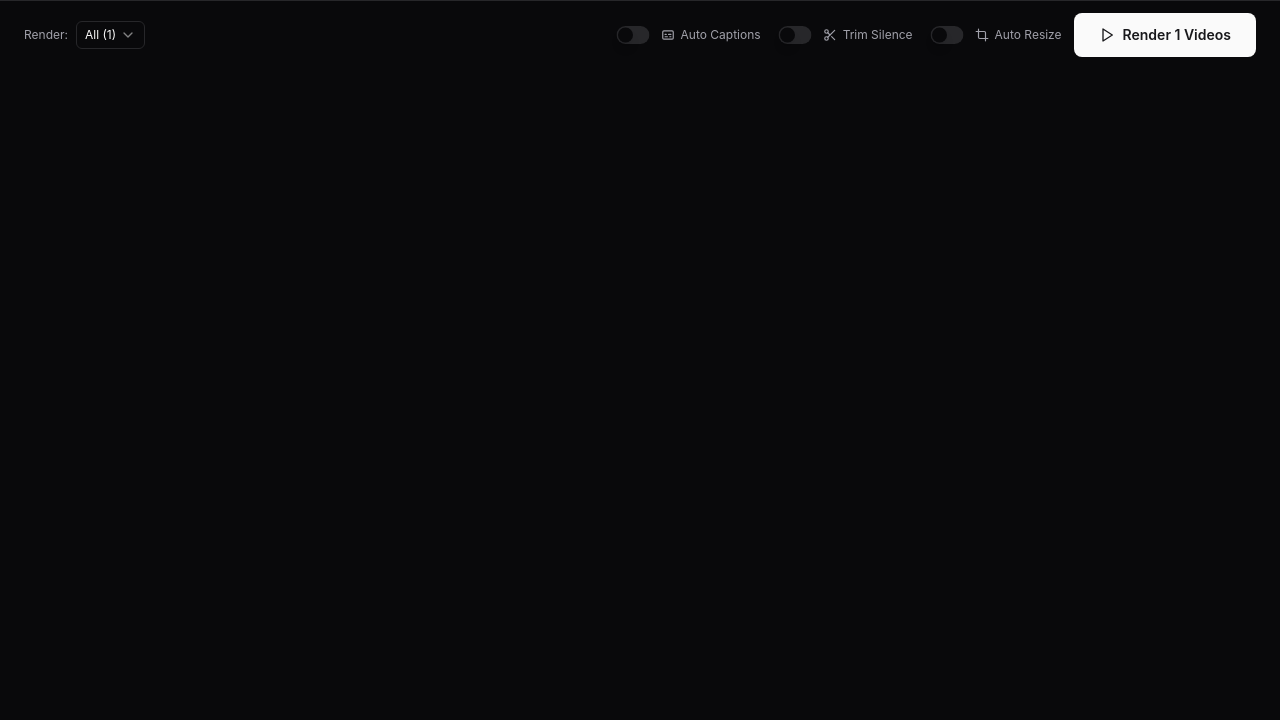
RenderPanel Auto Captions gate › blocks render and reports all filenames when the model fails to load
The width and height of the screenshot is (1280, 720).
Click the switch next to "Auto Captions": (633,35) [616,26,649,44]
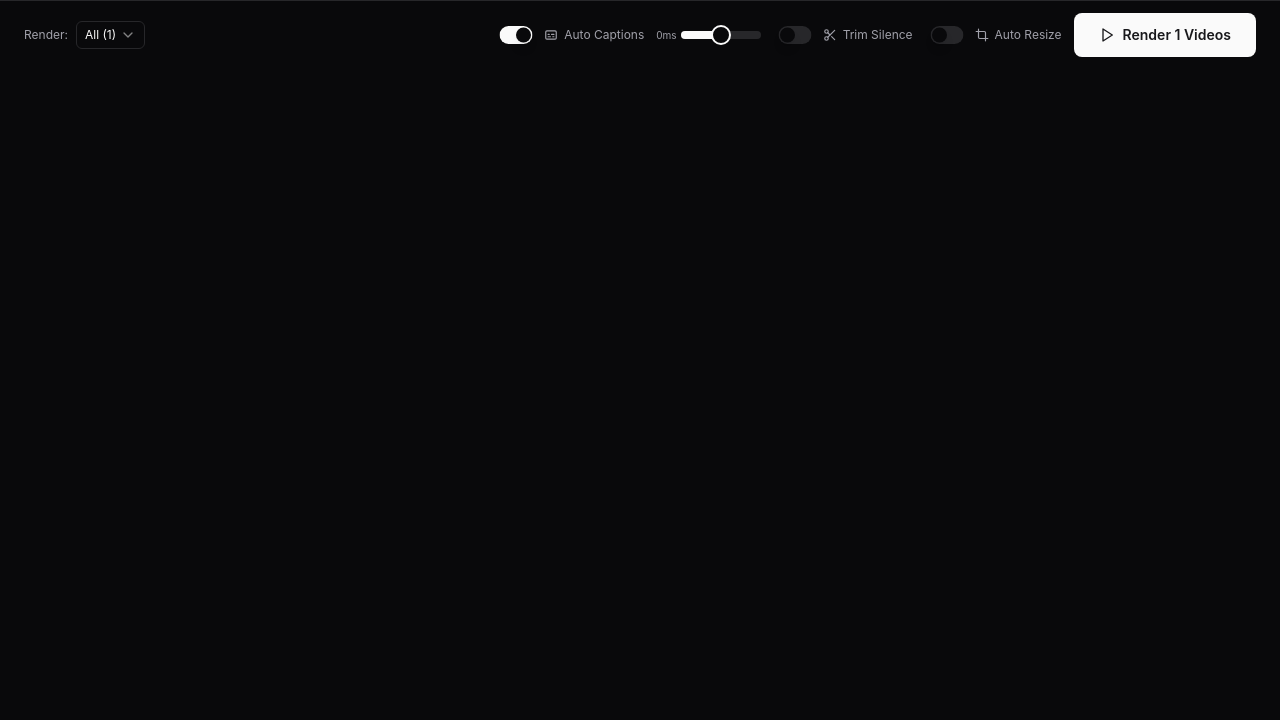
Click the button "Render 1 Videos": (1165,35) [1074,13,1256,57]
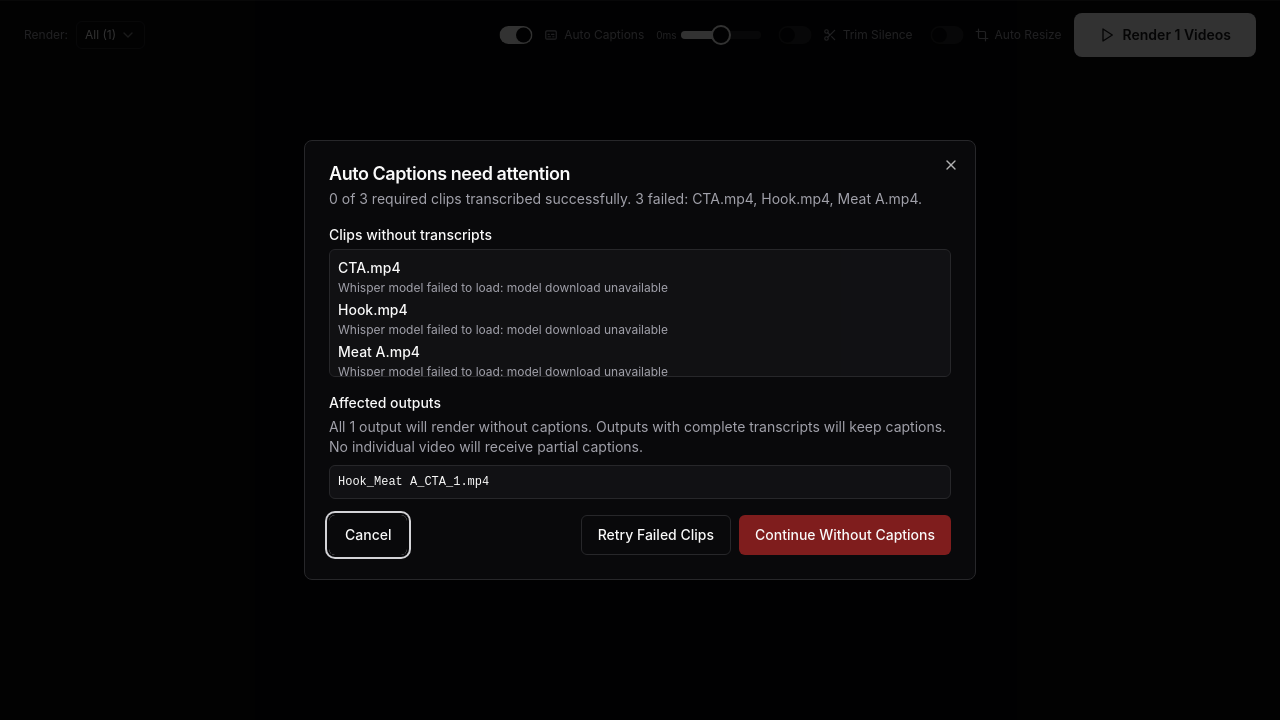
Now the heading "Auto Captions need attention" is shown, box [329,163,570,184]
Now the text "0 of 3 required clips transcribed successfully. 3 failed: CTA.mp4, Hook.mp4, Meat A.mp4." is shown, box [329,190,922,207]
Now the text "All 1 output will render without captions." is shown, box [329,418,592,435]
